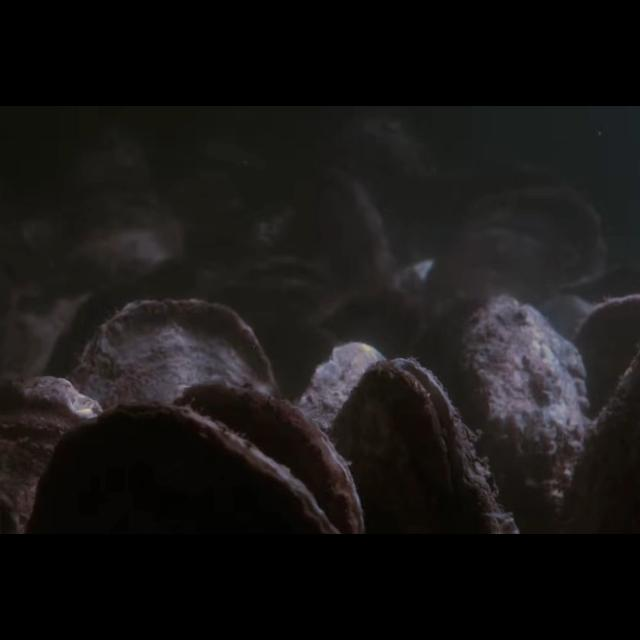Oyster-Closed: (67, 300, 281, 534), (29, 402, 340, 534), (452, 294, 592, 534), (172, 380, 366, 534), (422, 188, 608, 328), (297, 342, 389, 534), (0, 375, 102, 534), (287, 165, 399, 299), (61, 200, 187, 288), (572, 294, 640, 446)
Oyster-Open: (330, 358, 516, 534), (213, 253, 344, 327)
